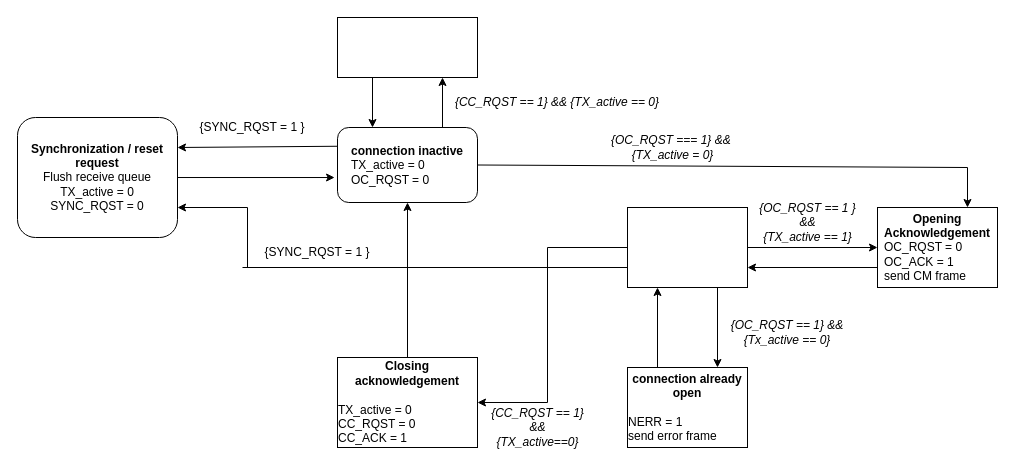
The diagram is 1015 pixels wide and 475 high, and some of its shapes have lost their labels. Here are the shapes that lost their labels. From the top down, the box of each, then its label:
(336, 16, 478, 78): connection already closed NERR = 2 send error frame
(626, 206, 748, 288): connection active TX_active = 1
